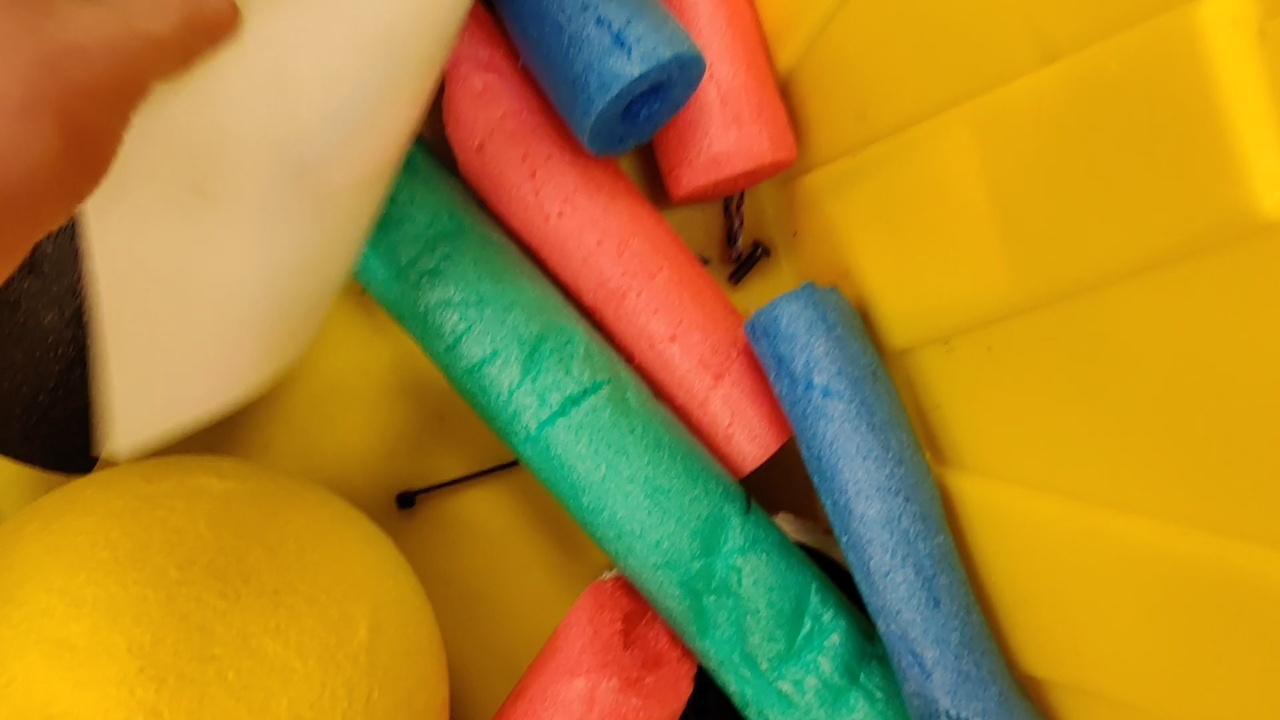Ball: (3, 452, 449, 720)
